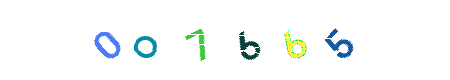0: (101, 0, 181, 80)
5: (254, 0, 334, 80)
6: (208, 0, 288, 80), (214, 0, 294, 80)
7: (185, 0, 265, 80)
O: (185, 0, 265, 80)
